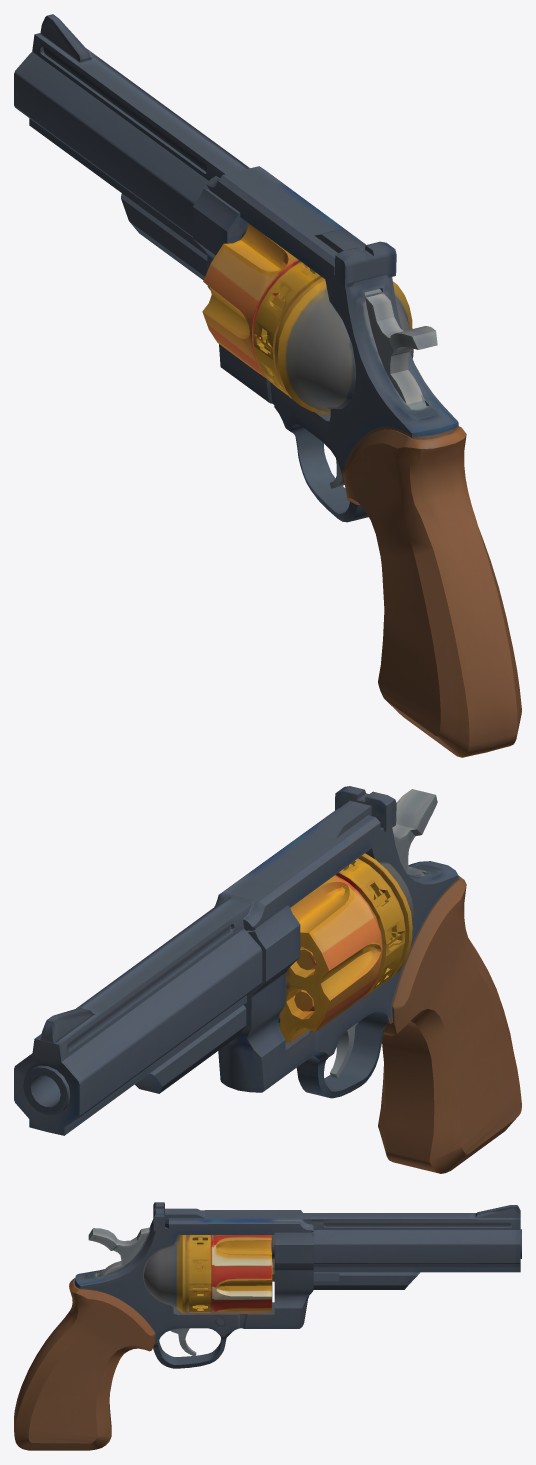
Rendered from magnum.glb.
3 renders of one model, top to bottom at view 1: azimuth 30°, elevation 25°; view 2: azimuth 150°, elevation 25°; view 3: azimuth 270°, elevation 25°, orthographic. The views are drawn at different scales.
Visible parts, largest first — view 1: wpn_magnum; view 2: wpn_magnum; view 3: wpn_magnum.
Part boxes in pixels (box(x1,y1,x2,y2)): wpn_magnum: box(14, 14, 521, 757); wpn_magnum: box(14, 786, 521, 1173); wpn_magnum: box(14, 1202, 521, 1450).
Bounding box in the file's own units: 0.0562 × 0.1676 × 0.324.
1 material, 1 textured.
